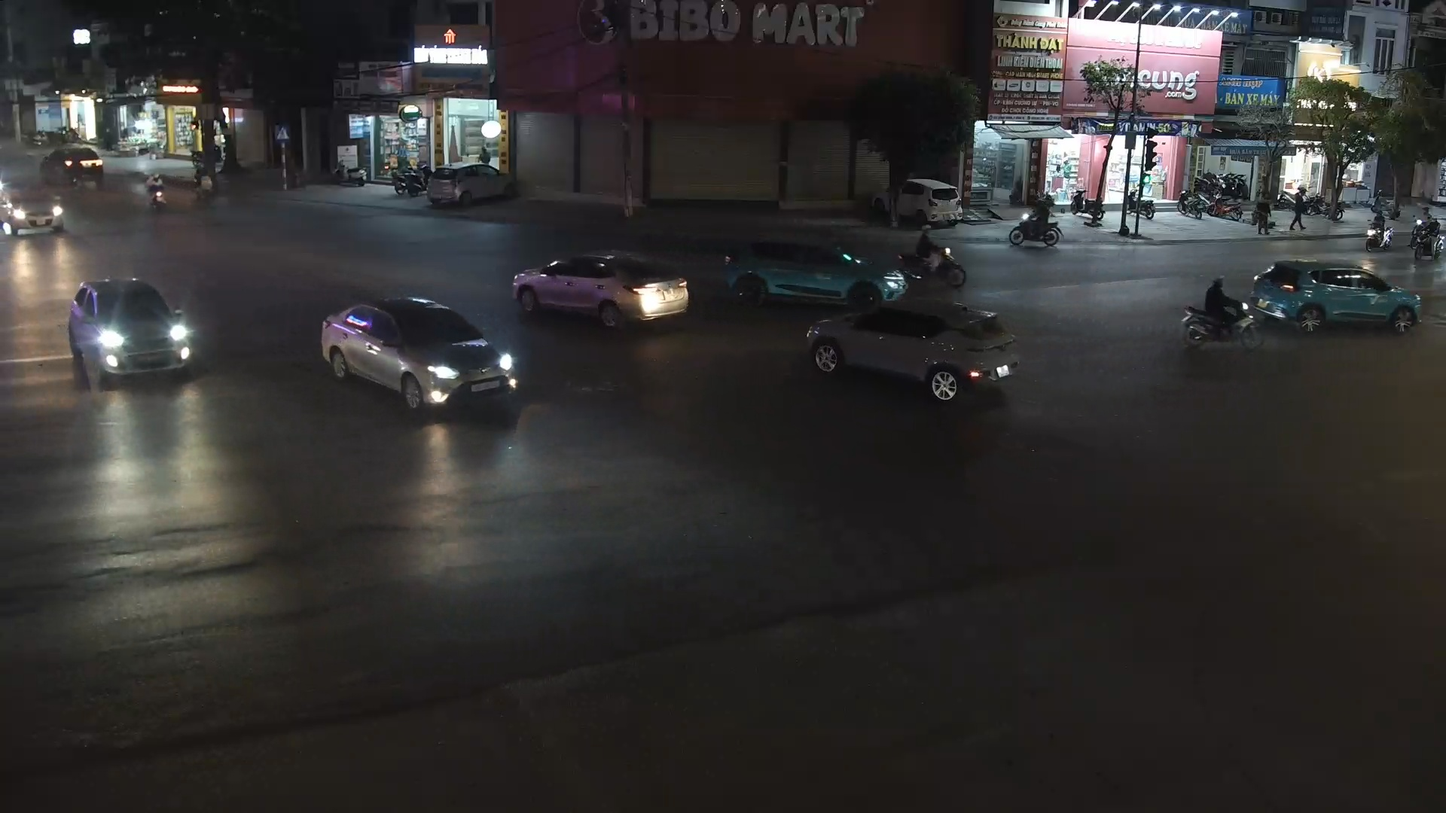car: (321, 295, 519, 417), (802, 298, 1017, 403), (721, 229, 923, 312), (65, 275, 195, 391), (509, 249, 691, 330), (1245, 257, 1423, 336), (1, 181, 66, 235)
motorbike: (1178, 274, 1266, 354), (890, 227, 968, 291)
